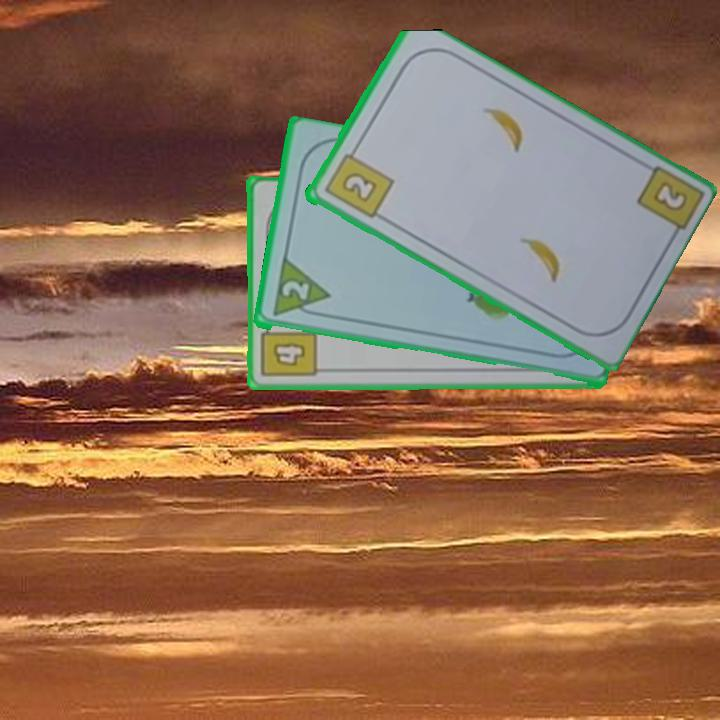2b: (320, 143, 396, 222), (648, 177, 690, 215)
2p: (277, 277, 312, 304)
4b: (258, 317, 319, 381)
